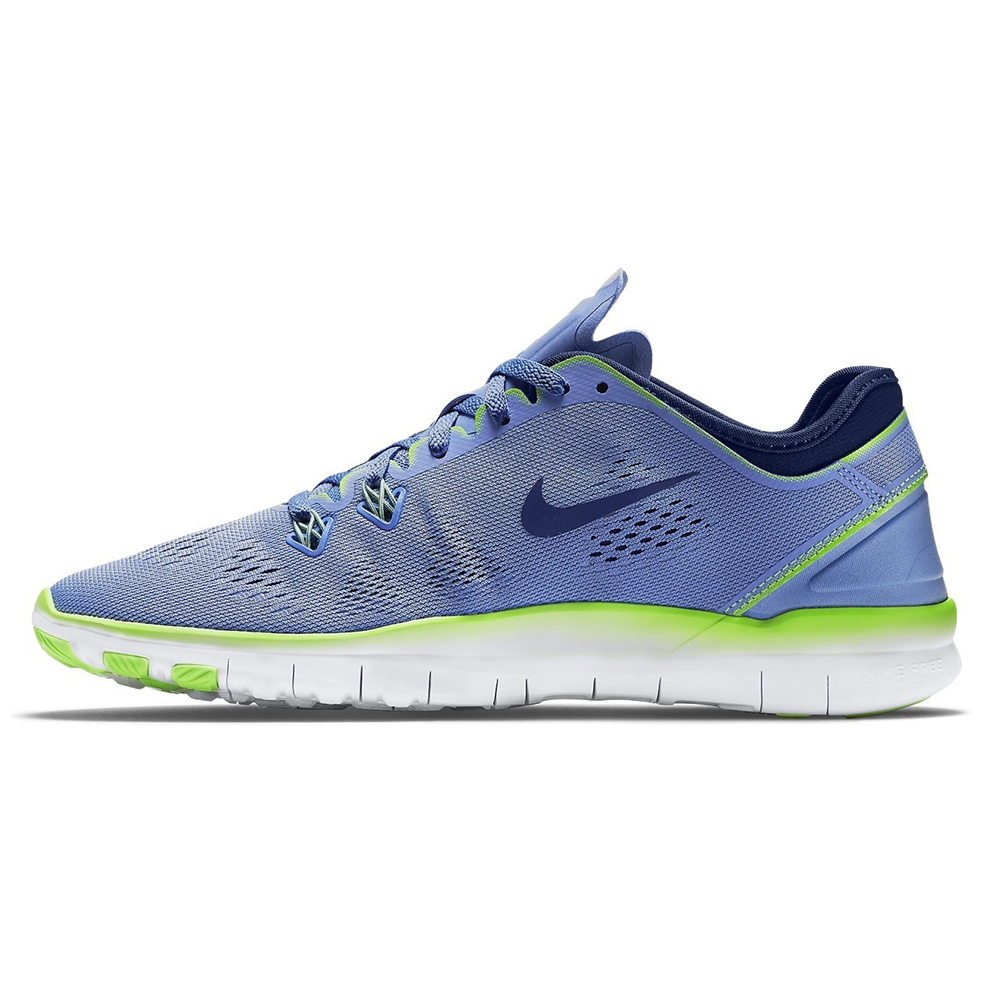Nike: (516, 459, 711, 543)
